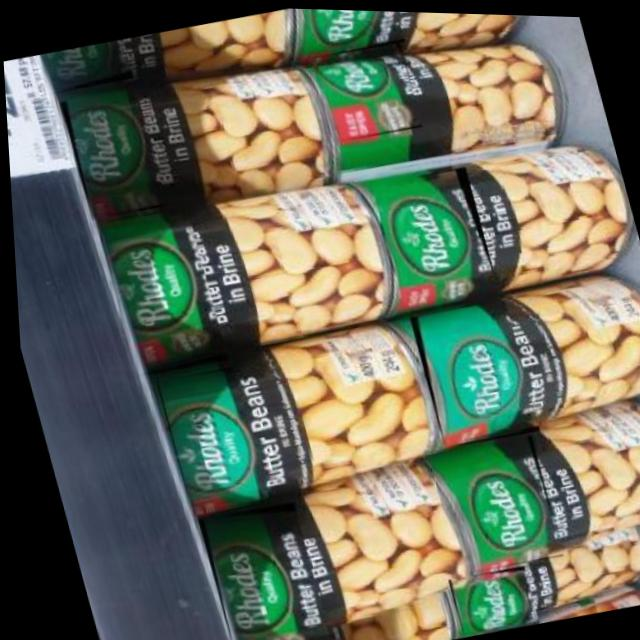Beans: (95, 212, 225, 378), (404, 292, 537, 448), (420, 428, 558, 575), (366, 160, 497, 311), (189, 496, 324, 640), (149, 362, 264, 513), (57, 82, 167, 220), (308, 36, 423, 144), (439, 558, 534, 636), (37, 36, 133, 96), (299, 7, 404, 57)
